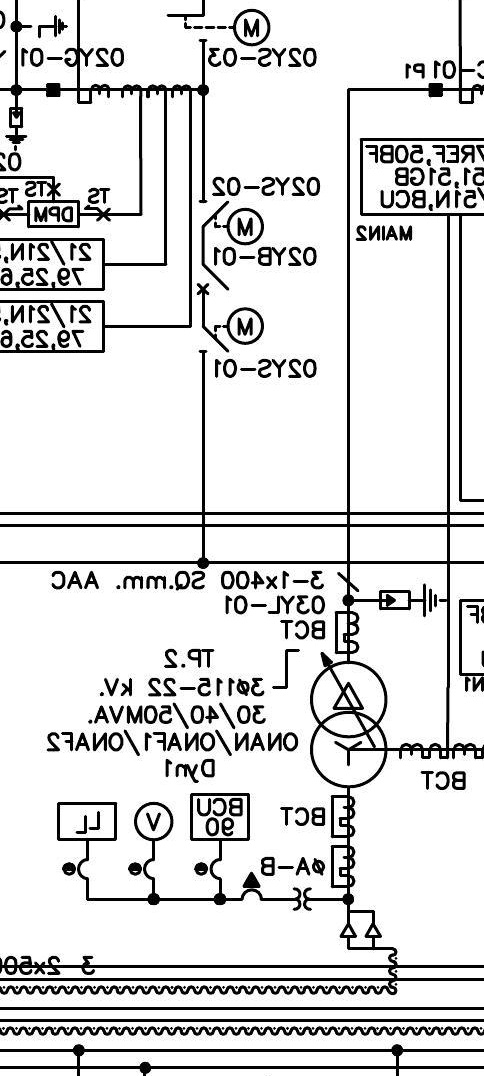11522_tx_dyn1: (309, 660, 388, 788)
115_1way_ds_w_motor: (166, 9, 273, 48), (198, 199, 266, 246), (198, 307, 266, 354)
115_breaker: (196, 264, 230, 296)
115_gs: (28, 14, 69, 39)
115_la: (378, 583, 447, 618), (4, 106, 29, 152)
DPM: (28, 200, 81, 228)
LL: (57, 802, 117, 841)
terminator_double: (339, 909, 383, 939)
v_m: (133, 801, 174, 841)
